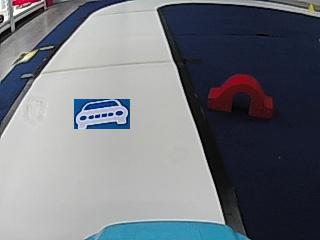bridge: (209, 73, 272, 116)
